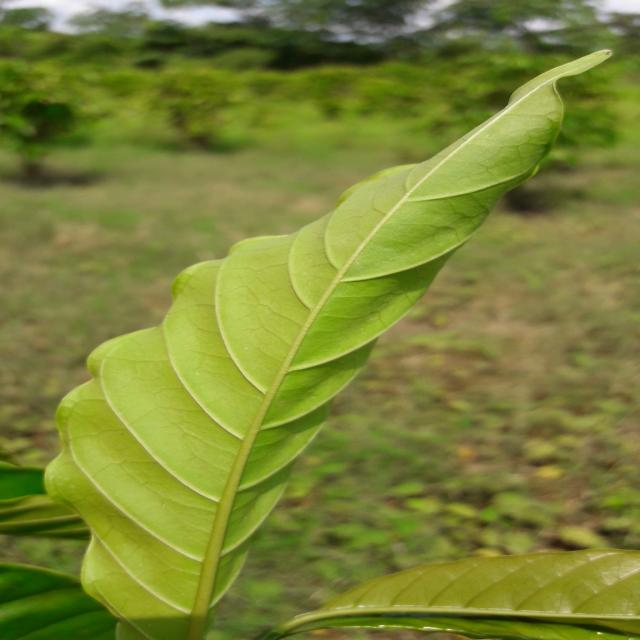Sanas: (40, 52, 611, 640)
